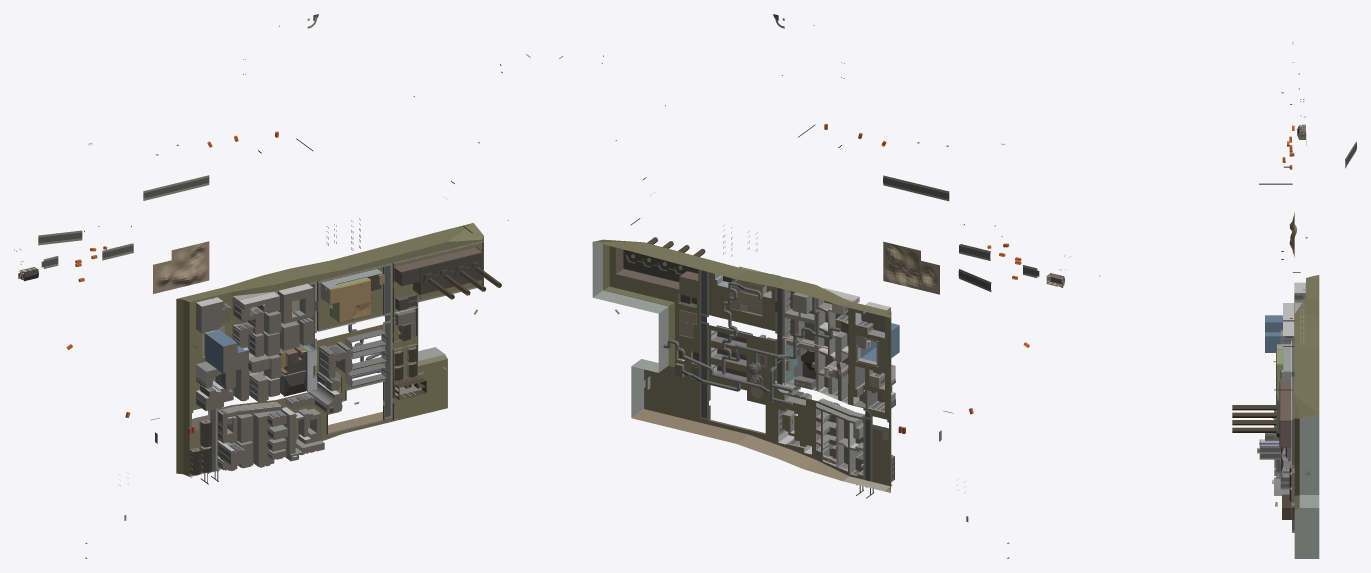
File: CITY.obj
3 renders of one model, left to right at view 1: azimuth 30°, elevation 25°; view 2: azimuth 150°, elevation 25°; view 3: azimuth 270°, elevation 25°, orthographic. The views are drawn at different scales.
Visible parts, largest first — view 1: obj2095, obj2060, obj2026, obj2068, obj2033, obj624, obj6912, obj3646, obj6013; view 2: obj2095, obj2060, obj2068, obj2057, obj6086, obj6557, obj624, obj6560; view 3: obj6571, obj2068, obj6558, obj2069, obj6560, obj583, obj2062.
Part boxes in pixels (bbox=[...]): obj2095: bbox=[274, 239, 482, 440]; obj2060: bbox=[189, 292, 231, 475]; obj2026: bbox=[176, 299, 183, 474]; obj2068: bbox=[331, 232, 447, 269]; obj2033: bbox=[183, 300, 189, 476]; obj624: bbox=[420, 253, 483, 294]; obj6912: bbox=[330, 280, 370, 322]; obj3646: bbox=[201, 301, 231, 333]; obj6013: bbox=[284, 288, 314, 323]; obj2095: bbox=[609, 246, 816, 459]; obj2060: bbox=[848, 308, 890, 485]; obj2068: bbox=[632, 242, 748, 279]; obj2057: bbox=[632, 409, 748, 443]; obj6086: bbox=[784, 294, 831, 394]; obj6557: bbox=[593, 290, 668, 313]; obj624: bbox=[624, 249, 686, 281]; obj6560: bbox=[658, 307, 668, 372]; obj6571: bbox=[1294, 508, 1319, 558]; obj2068: bbox=[1294, 348, 1319, 395]; obj6558: bbox=[1299, 414, 1319, 468]; obj2069: bbox=[1294, 326, 1319, 348]; obj6560: bbox=[1299, 468, 1319, 494]; obj583: bbox=[1280, 382, 1291, 420]; obj2062: bbox=[1294, 314, 1319, 326].
Bounding box in the file's own units: 25507 × 24001 × 11377.
